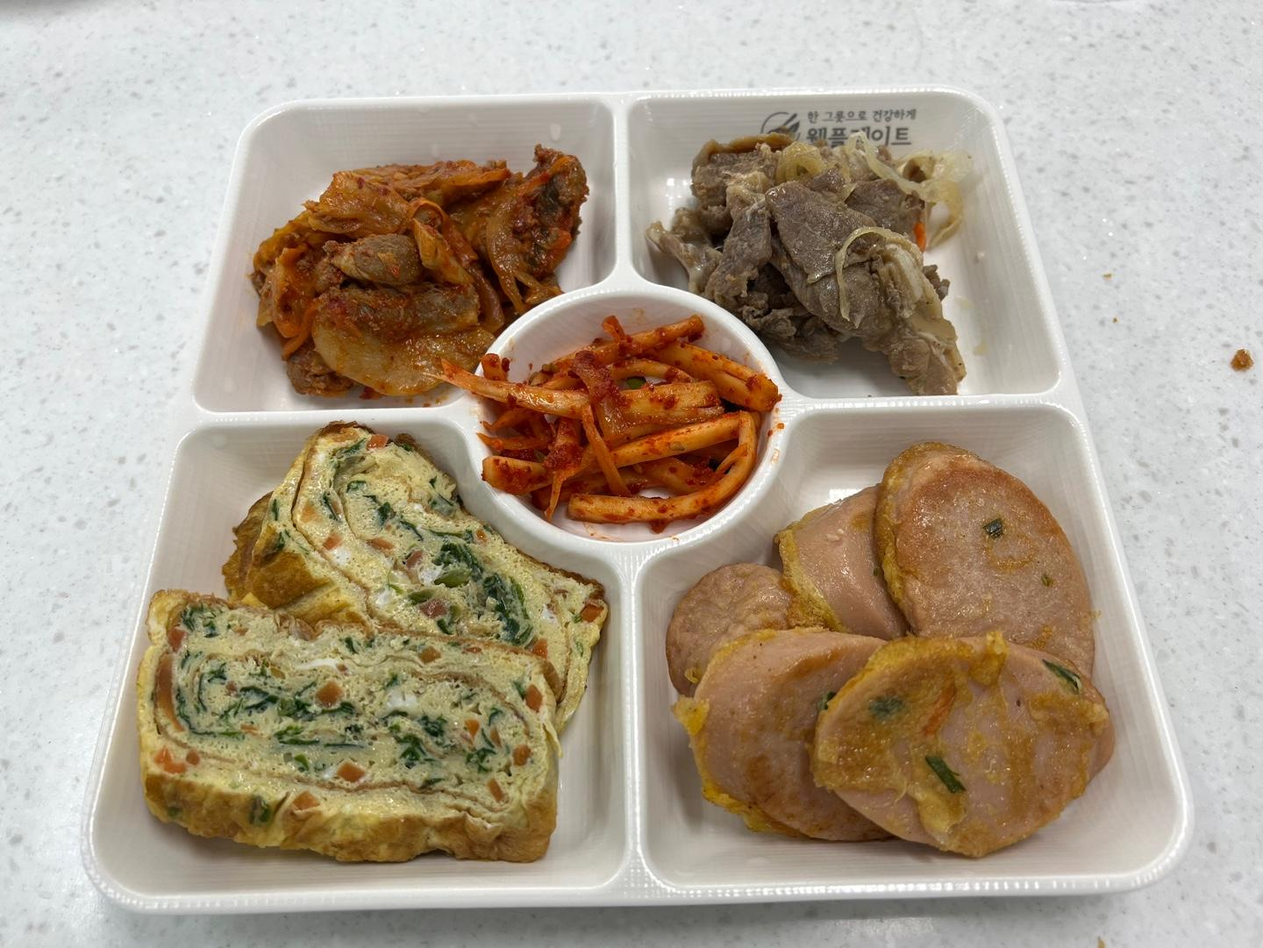food: (674, 450, 1150, 858), (133, 422, 609, 813), (170, 450, 583, 852), (667, 446, 1103, 813), (655, 123, 972, 399), (250, 147, 590, 403), (247, 151, 583, 393), (658, 132, 990, 365), (482, 321, 781, 543), (481, 327, 784, 529)
